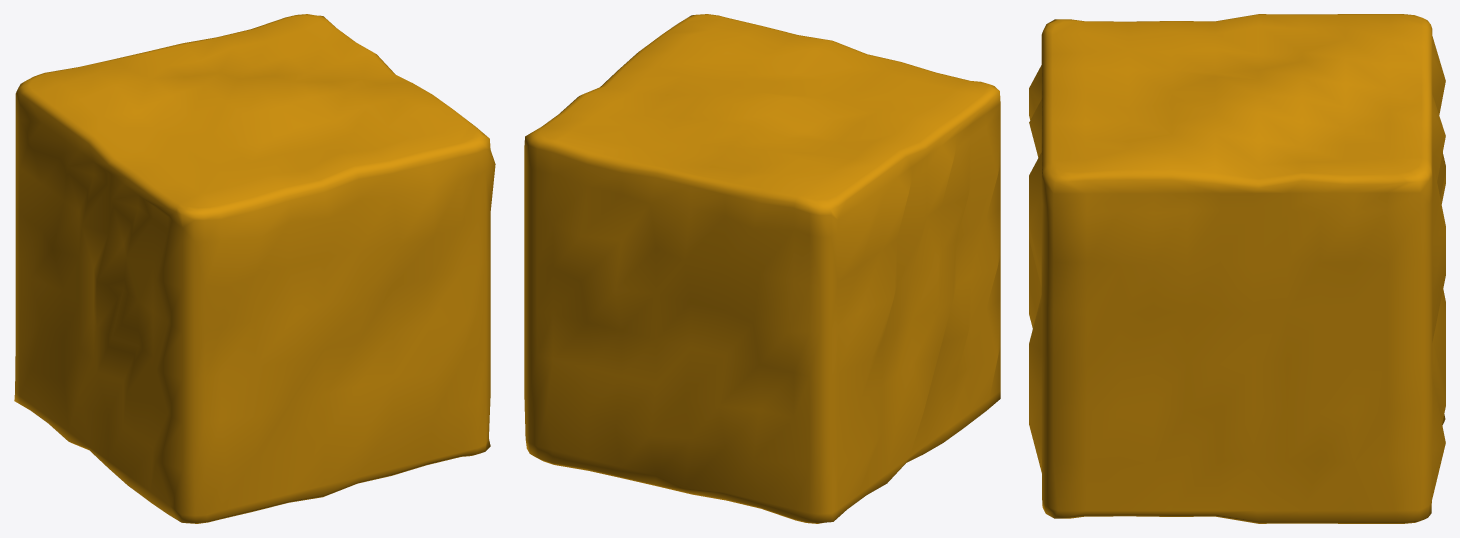
File: Chao_Areia.fbx
The picture shows the model from 3 angles, left to right: view 1: azimuth 30°, elevation 25°; view 2: azimuth 150°, elevation 25°; view 3: azimuth 270°, elevation 25°; orthographic projection. The views are drawn at different scales.
Parts seen in each view (by area): view 1: Cubo_Areia; view 2: Cubo_Areia; view 3: Cubo_Areia.
Boxes of the visible parts, left/top/right/bottom form: Cubo_Areia: left=14, top=14, right=495, bottom=523; Cubo_Areia: left=524, top=14, right=1000, bottom=523; Cubo_Areia: left=1029, top=14, right=1445, bottom=523.
Size of the model in its own units: 210 by 207 by 213.
